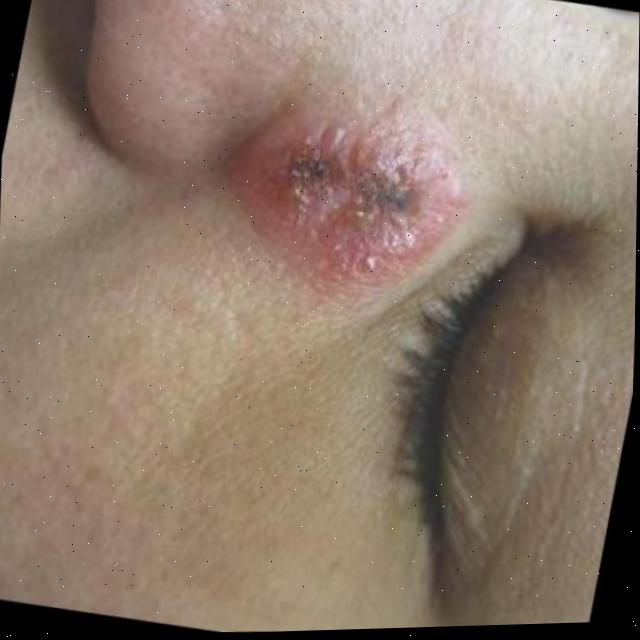Shingles: (252, 132, 442, 273)
